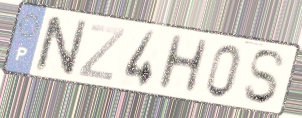0: (203, 42, 243, 100)
4: (121, 28, 158, 91)
H: (153, 32, 212, 94)
N: (32, 14, 90, 78)
S: (242, 48, 288, 106)
Z: (76, 22, 128, 83)
